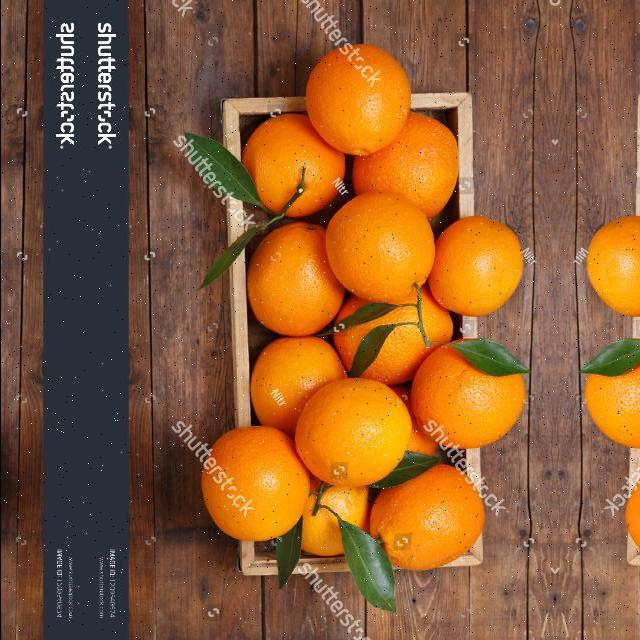Orange: (294, 377, 412, 487), (199, 425, 310, 541), (324, 190, 436, 304), (369, 463, 486, 571), (410, 341, 526, 449), (332, 284, 453, 384), (305, 43, 412, 155), (352, 111, 459, 218), (247, 221, 345, 336), (241, 112, 346, 217), (428, 215, 524, 316), (250, 335, 347, 430), (585, 215, 640, 317), (300, 478, 369, 556), (583, 363, 640, 448), (624, 477, 640, 553)
